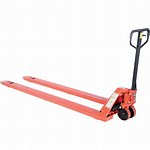Pallet Jack: (1, 28, 150, 122)
